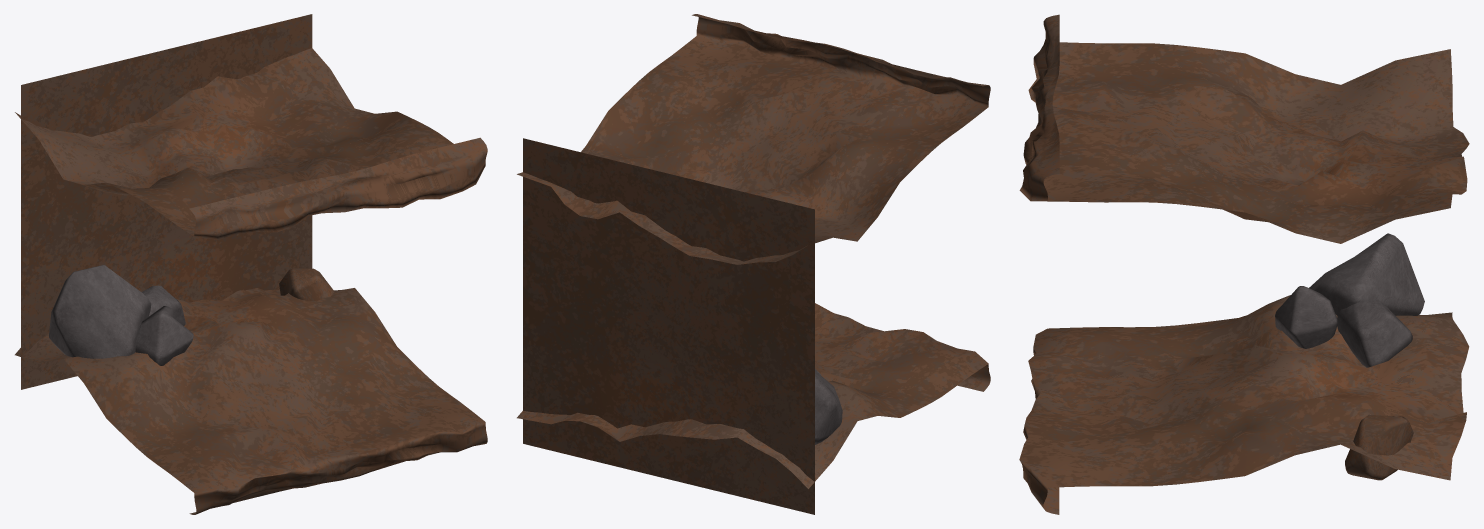
Rendered from BackgroundScene_05.fbx.
3 renders of one model, left to right at view 1: azimuth 30°, elevation 25°; view 2: azimuth 150°, elevation 25°; view 3: azimuth 270°, elevation 25°, orthographic. The views are drawn at different scales.
Visible parts, largest first — view 1: BackgroundScene_05; view 2: BackgroundScene_05; view 3: BackgroundScene_05.
Boxes of the visible parts, x1=… form: BackgroundScene_05: x1=15, y1=14, x2=487, y2=514; BackgroundScene_05: x1=517, y1=14, x2=990, y2=514; BackgroundScene_05: x1=1019, y1=14, x2=1469, y2=514.
Bounding box in the file's own units: 10 × 10.02 × 11.96.
